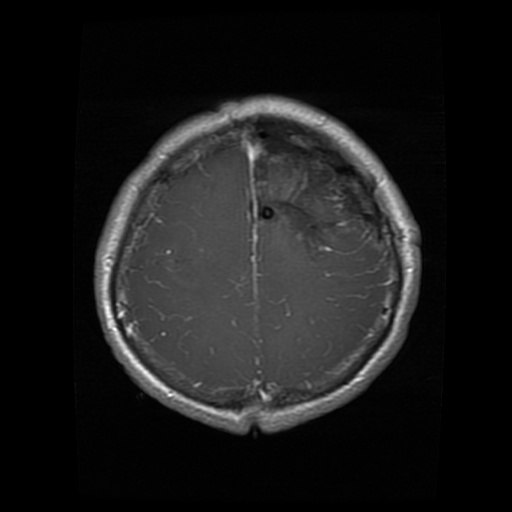glioma: (252, 117, 380, 251)
